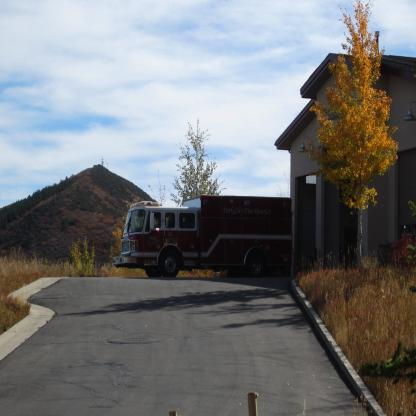Truck: (116, 195, 299, 286)
